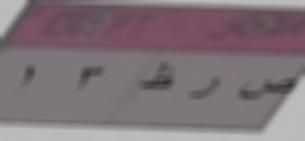1: (10, 56, 44, 92)
3: (66, 52, 112, 96)
Taa: (142, 58, 179, 96)
raa: (184, 72, 227, 104)
saad: (235, 69, 299, 106)
